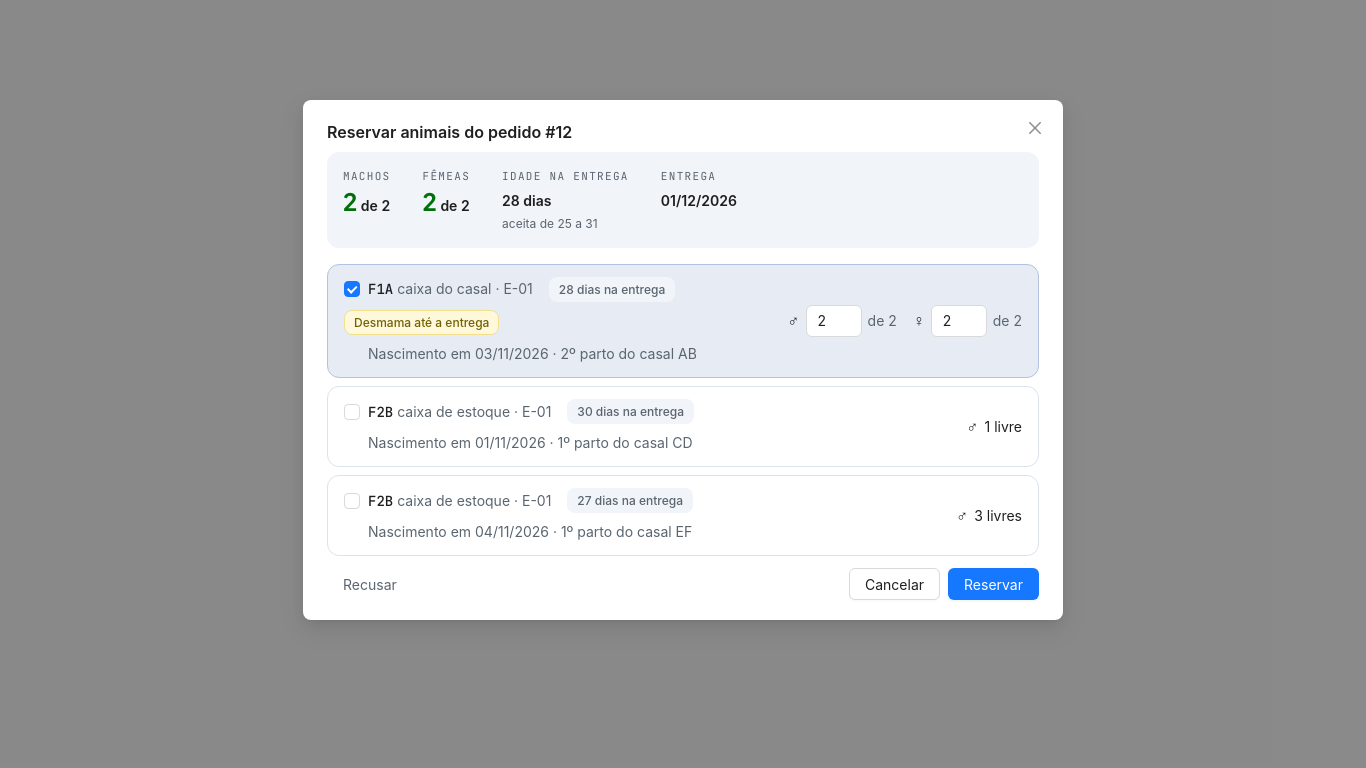
Test: reservar os animais do pedido aprovado › a janela é a de reservar os animais, e diz quando ficaram reservados
Expected: the text "Reservar animais do pedido #12" is shown, top-left (327, 122), bottom-right (572, 142)
What coordinates should you click on to do the following:
click the button "Reservar"
I would click on:
 (994, 584)
Its box is top-left (948, 568), bottom-right (1039, 600).
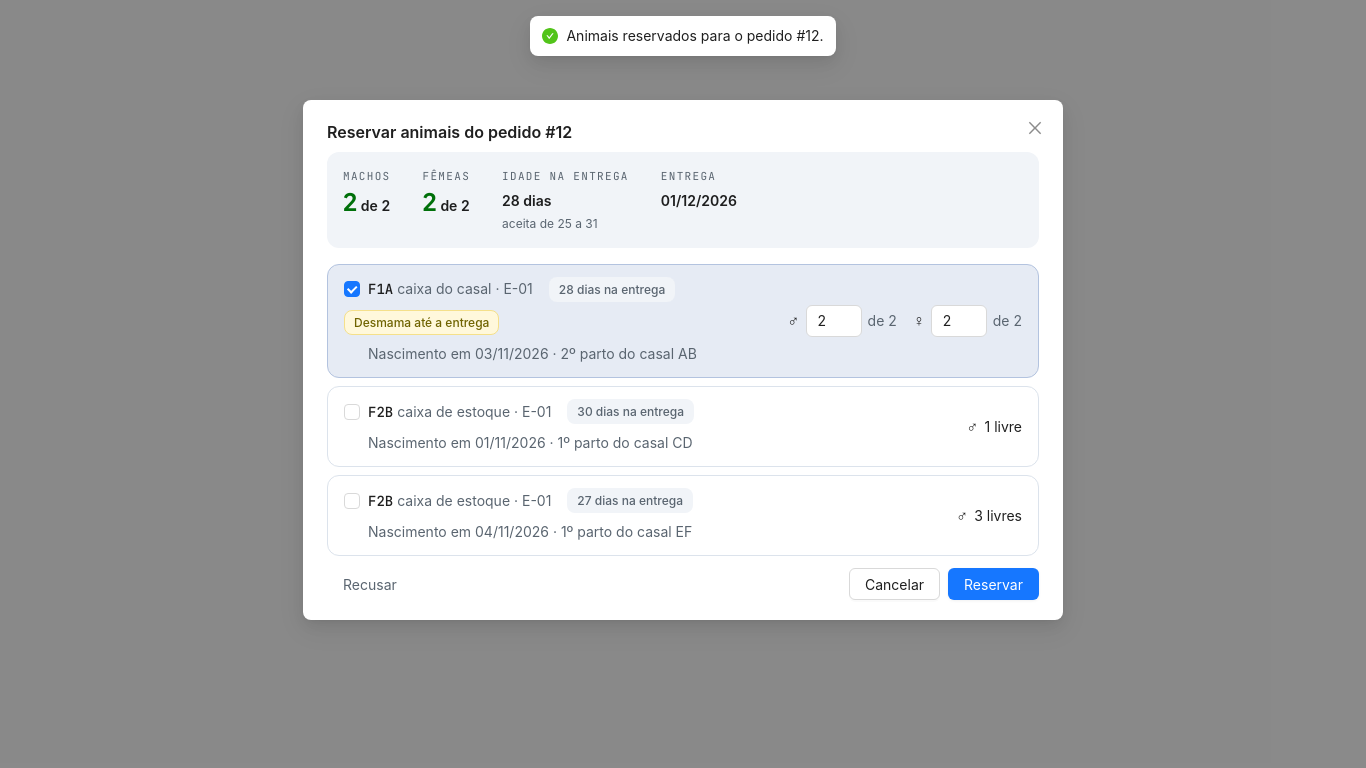
Expected: the text "Animais reservados para o pedido #12." is shown, top-left (566, 25), bottom-right (824, 47)
